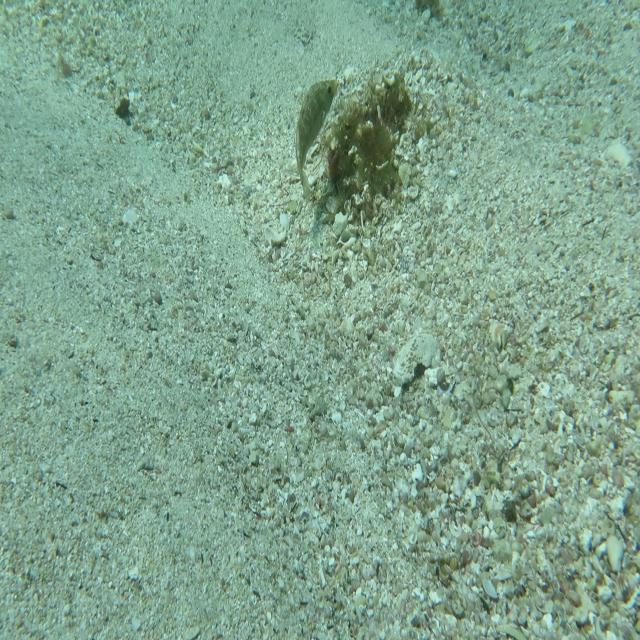AM: (294, 77, 340, 202)
core_nest: (372, 83, 403, 120)
nest: (323, 70, 422, 214)
nest_material: (336, 76, 344, 85)
vegetation: (114, 94, 133, 120)
